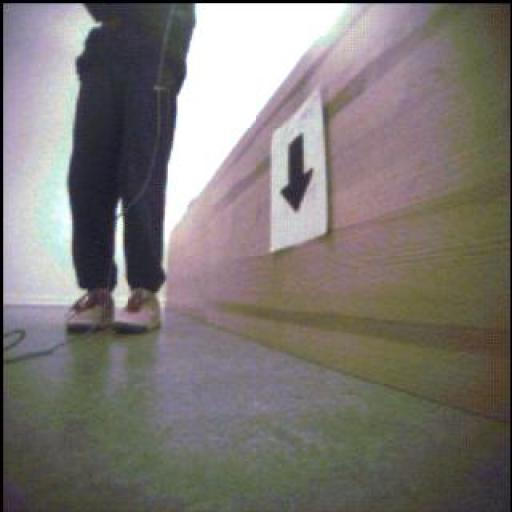arrow: (283, 136, 313, 213)
